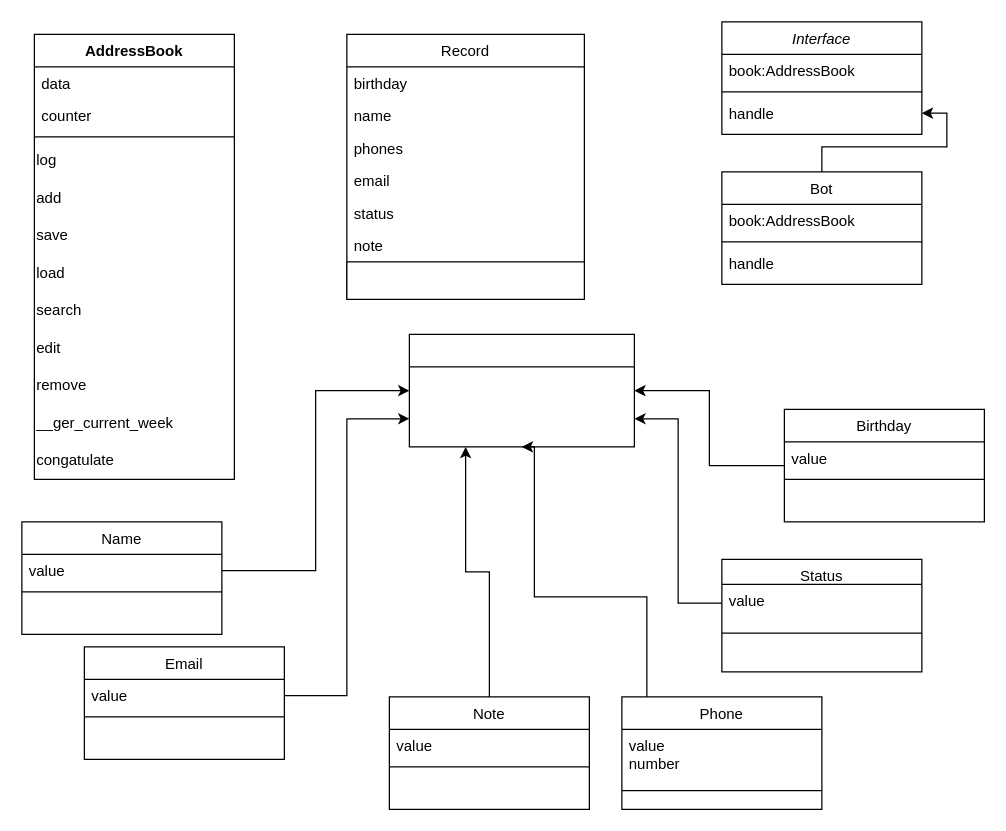
Some shapes in this 1006 by 831 pixel diagram are drawn without their labels. Here are the shapes that lost their labels. From the top down, the centre of each, then its label:
the point at 465,280: days_to_birthday
the point at 521,390: Field
